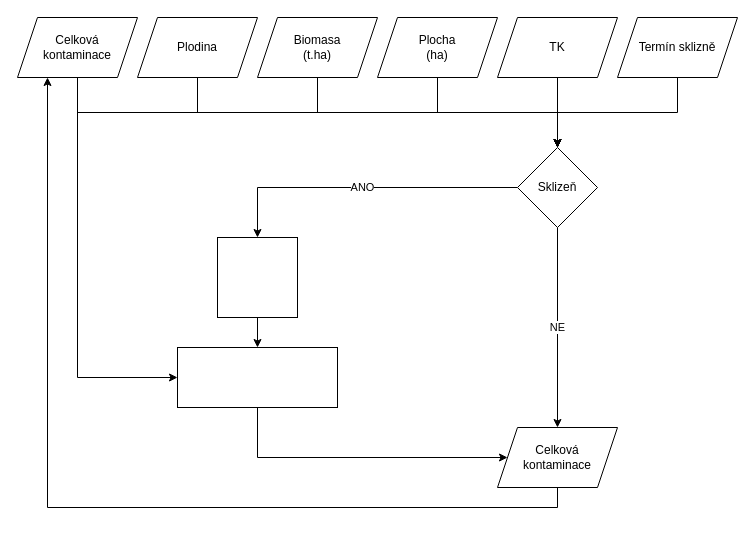
Image size: 755x533. Some labels were removed from this diagram. Each missing label, with the centre of its shape:
Akumulace RN plodinou: (x=257, y=277)
Celk. kontam. - akumulace: (x=257, y=377)
